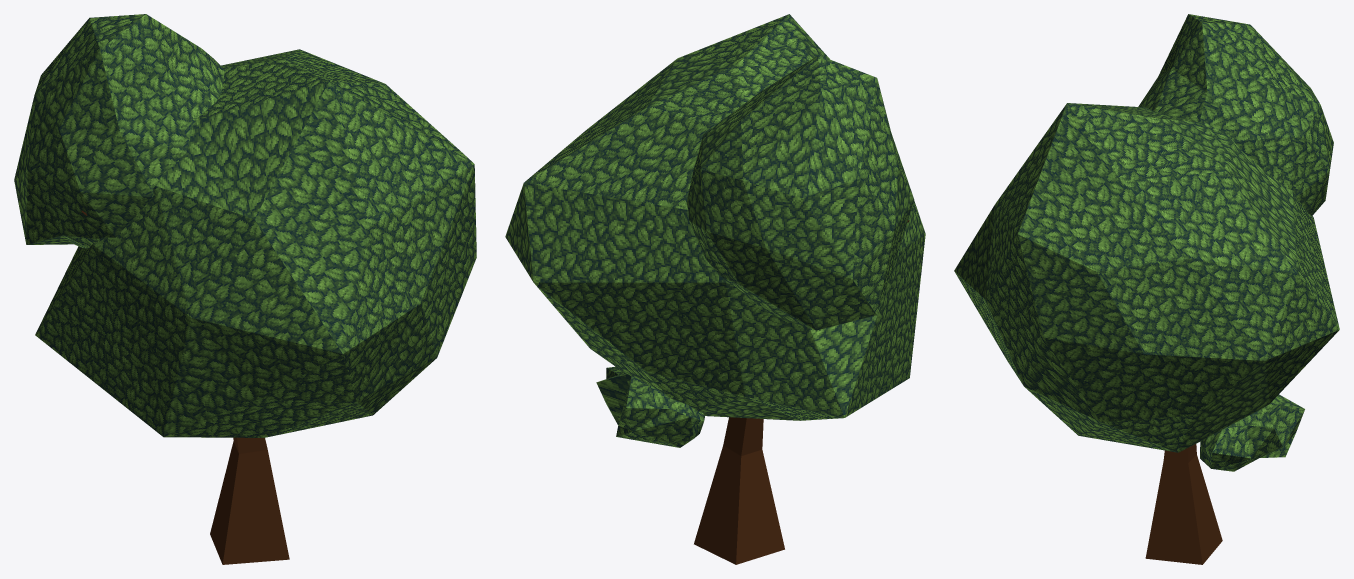
The model's file is tree-green.glb.
3 views of the same model, side by side, from view 1: azimuth 30°, elevation 25°; view 2: azimuth 150°, elevation 25°; view 3: azimuth 270°, elevation 25° (orthographic). The views are drawn at different scales.
Parts seen in each view (by area): view 1: Icosphere.001, Plane.006; view 2: Icosphere.001, Plane.006; view 3: Icosphere.001, Plane.006.
Part boxes in pixels (x1,y1,x2,y2): Icosphere.001: (14, 14, 476, 437); Plane.006: (81, 210, 289, 564); Icosphere.001: (505, 14, 925, 447); Plane.006: (694, 220, 909, 564); Icosphere.001: (954, 14, 1339, 471); Plane.006: (1145, 444, 1222, 564).
Size of the model in its own units: 3.04 by 4.05 by 2.9.
2 materials, 1 textured.
